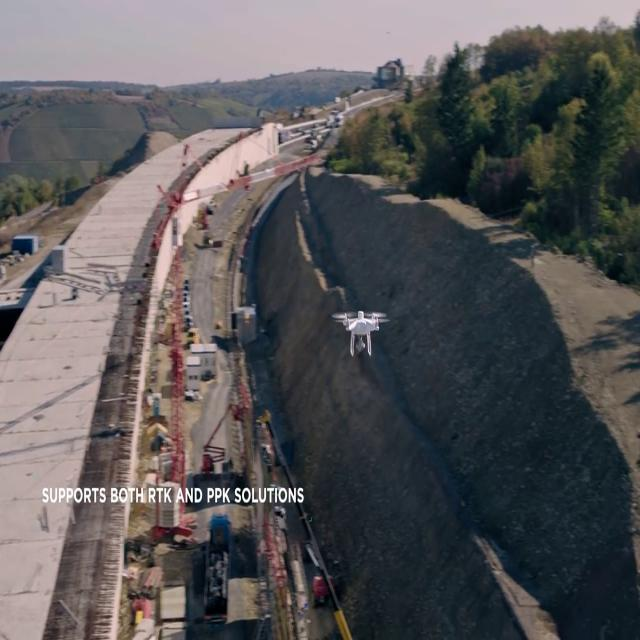drone: (330, 308, 392, 358)
